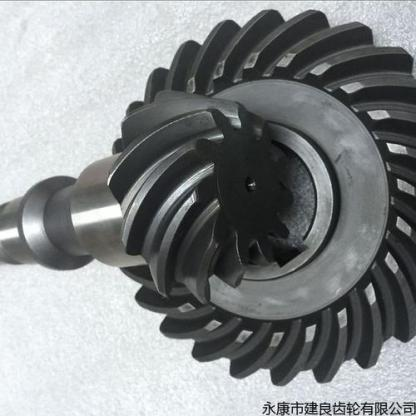FOD: (104, 3, 415, 388), (108, 89, 292, 310)
